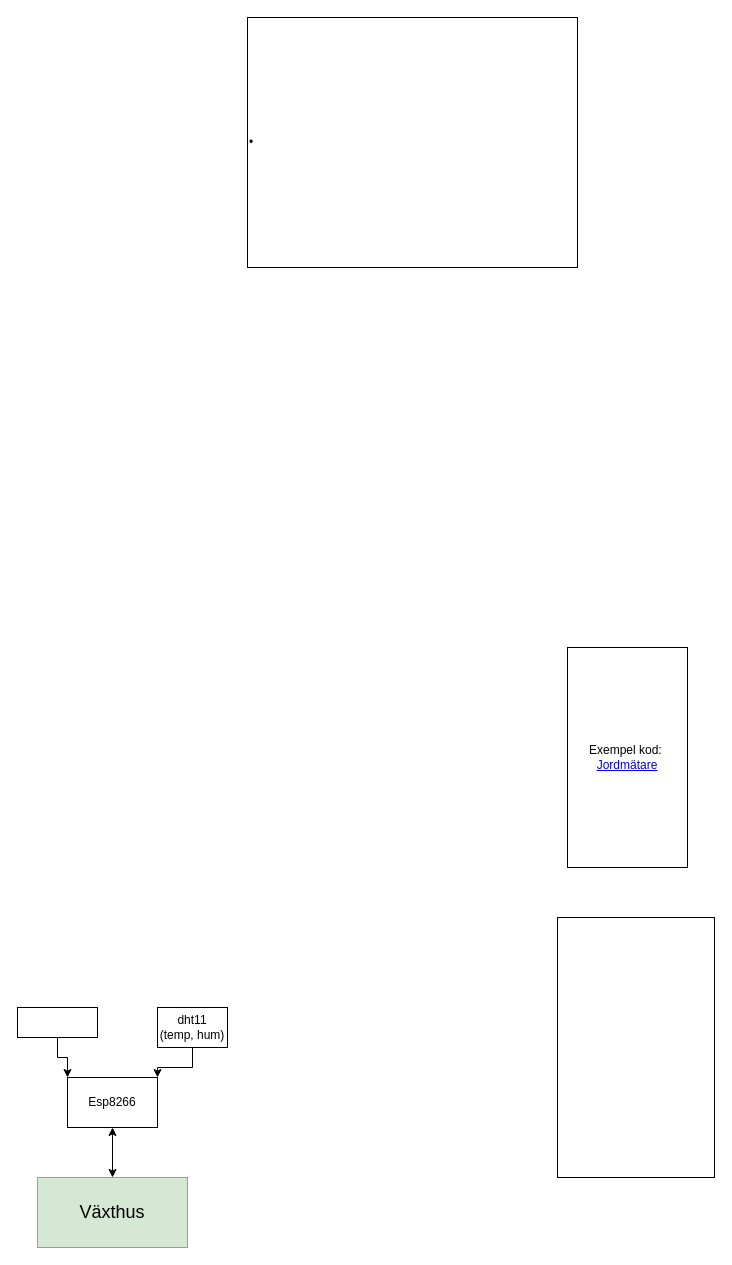
This 732x1265 diagram has some shape labels left out. The shapes that lost their labels are listed below. From the top down, each one's centre as x and y in pixels, then its label:
At (x=57, y=1022): "Jordfuktighet".
At (x=635, y=1047): "Inköpslista Ventil Jordmätare".
